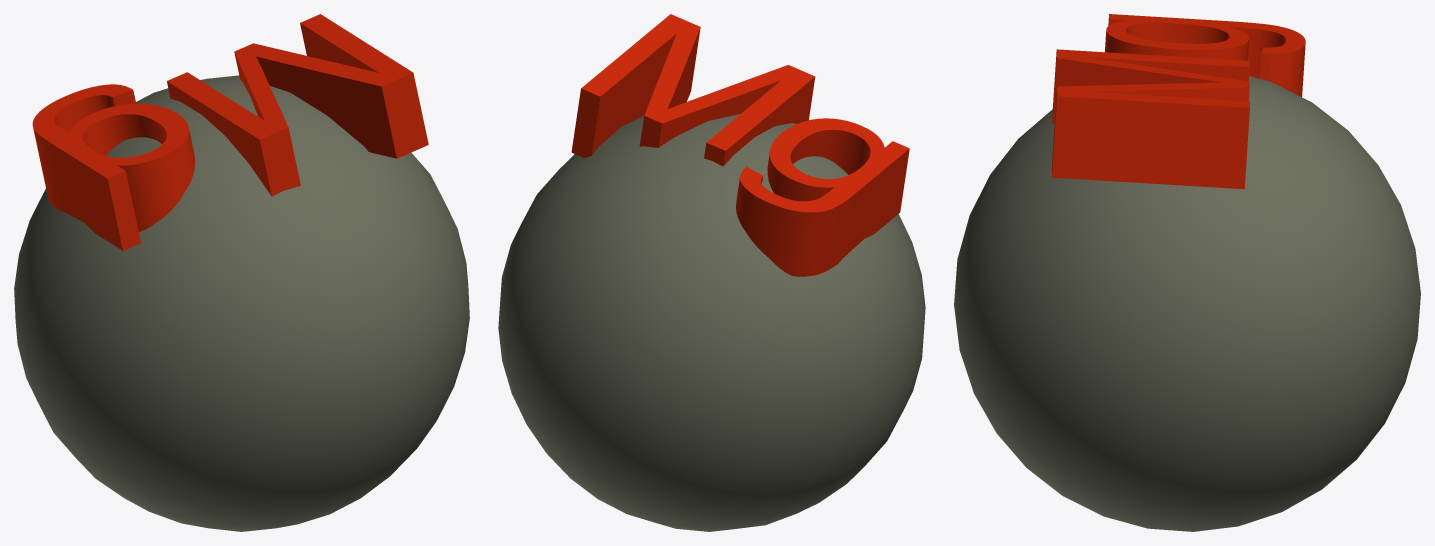
The picture shows the model from 3 angles, left to right: view 1: azimuth 30°, elevation 25°; view 2: azimuth 150°, elevation 25°; view 3: azimuth 270°, elevation 25°; orthographic projection. The views are drawn at different scales.
Parts seen in each view (by area): view 1: Mg; view 2: Mg; view 3: Mg.
Boxes of the visible parts, <box> form: Mg: <box>14,14,469,531</box>; Mg: <box>498,14,925,531</box>; Mg: <box>954,14,1420,531</box>.
Bounding box in the file's own units: 38.72 × 42.86 × 38.74.
